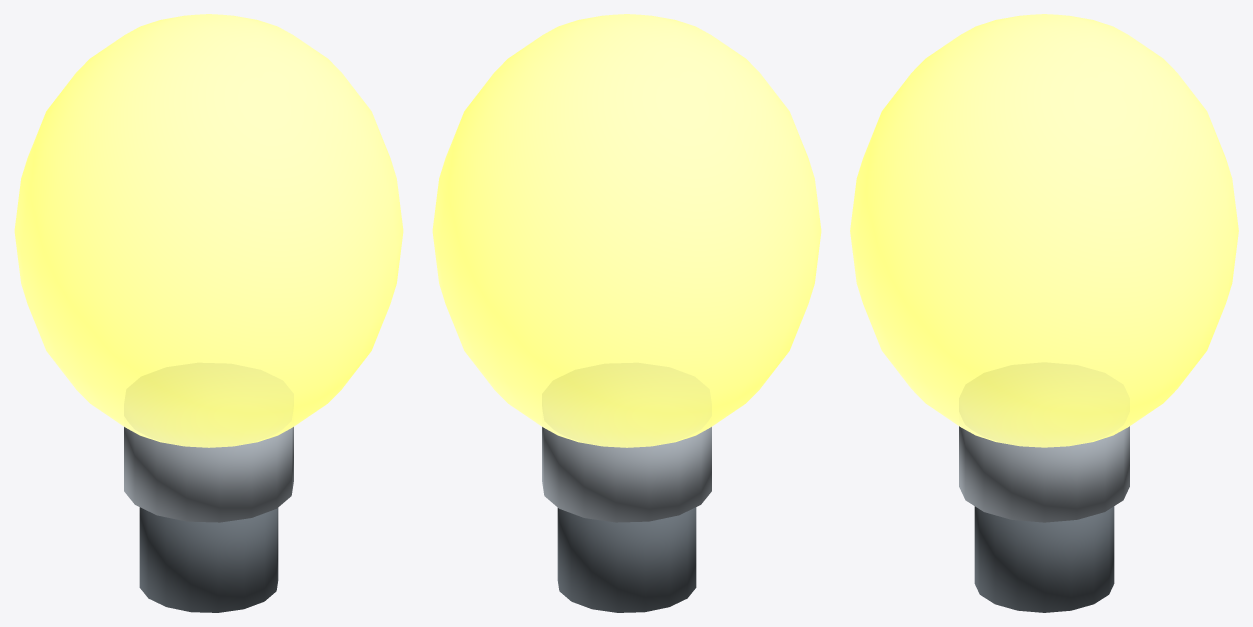
The model's file is light_bulb.glb.
3 views of the same model, side by side, from view 1: azimuth 30°, elevation 25°; view 2: azimuth 150°, elevation 25°; view 3: azimuth 270°, elevation 25° (orthographic).
Visible parts, largest first — view 1: light_bulb; view 2: light_bulb; view 3: light_bulb.
Boxes of the visible parts, box(x1,y1,x2,y2) form: light_bulb: box(14, 14, 403, 612); light_bulb: box(432, 14, 821, 612); light_bulb: box(850, 14, 1238, 612).
Size of the model in its own units: 0.1 by 0.1575 by 0.1.
